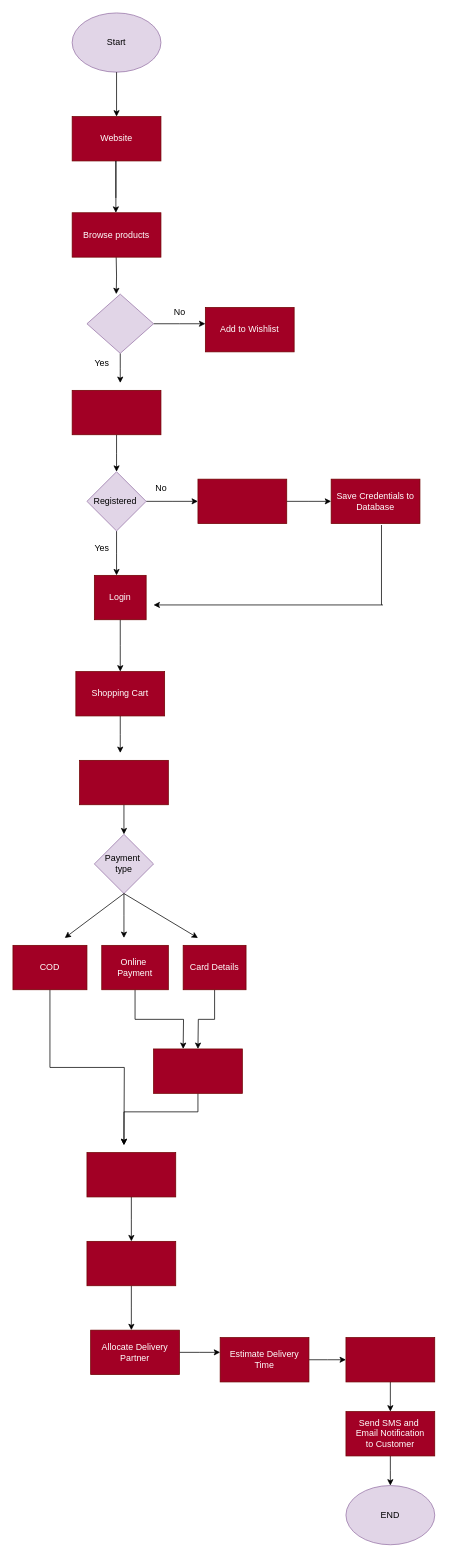
Some shapes in this 476 by 1558 pixel diagram are drawn without their labels. The shapes that lost their labels are listed below. From the top down, each one's centre as x and y in pixels, then its label:
At (x=120, y=323): "Want to Buy".
At (x=116, y=412): "Add to cart".
At (x=242, y=501): "Create Account".
At (x=123, y=782): "CheckOut".
At (x=197, y=1070): "Process Payment".
At (x=131, y=1174): "Generate Order Credentials".
At (x=131, y=1263): "Order Placed Message".
At (x=390, y=1359): "Show ‘Track Order’ Option".
